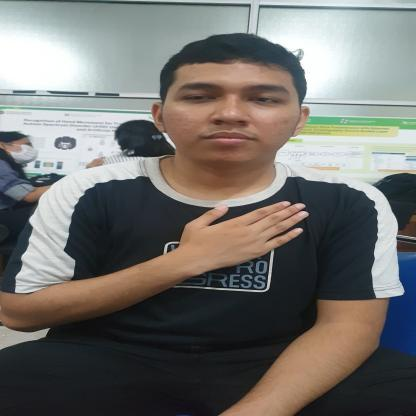Saya: (169, 198, 316, 276)
